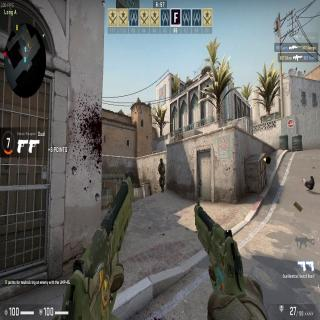CT-Head: (98, 265, 104, 277)
T-Body: (157, 158, 165, 193)
T-Head: (160, 158, 162, 164)
